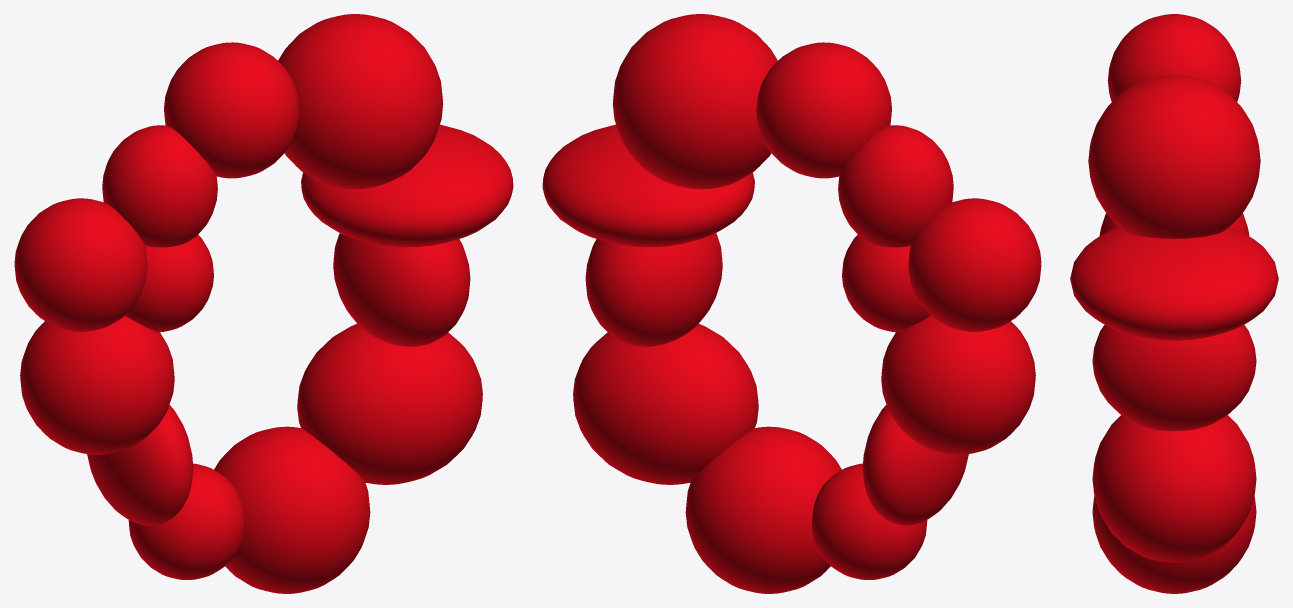
File: EXPO2025.glb
3 views of the same model, side by side, from view 1: azimuth 30°, elevation 25°; view 2: azimuth 150°, elevation 25°; view 3: azimuth 270°, elevation 25° (orthographic). The views are drawn at different scales.
Visible parts, largest first — view 1: 球.002, 球.011, 球.010, 球.007, 球.001, 球.006, 球, 球.012, 球.009, 球.008, 球.003, 球.005 (+1 smaller); view 2: 球.002, 球.011, 球.010, 球.007, 球.001, 球.006, 球, 球.012, 球.009, 球.008, 球.003, 球.005 (+1 smaller); view 3: 球.002, 球.011, 球.001, 球.012, 球, 球.010, 球.007.
Boxes of the visible parts, x1,y1,x2,y2 form: 球.002: (278, 14, 443, 189); 球.011: (297, 324, 482, 484); 球.010: (214, 426, 370, 593); 球.007: (20, 316, 174, 454); 球.001: (301, 124, 513, 247); 球.006: (14, 198, 147, 331); 球: (164, 42, 299, 178); 球.012: (333, 233, 470, 346); 球.009: (128, 463, 243, 579); 球.008: (87, 405, 193, 525); 球.003: (102, 131, 194, 247); 球.005: (125, 235, 213, 332); 球.002: (612, 14, 777, 189); 球.011: (573, 324, 758, 484); 球.010: (685, 426, 841, 593); 球.007: (881, 316, 1035, 454); 球.001: (542, 124, 754, 247); 球.006: (908, 198, 1041, 331); 球: (756, 42, 891, 178); 球.012: (585, 233, 722, 346); 球.009: (812, 463, 927, 579); 球.008: (862, 405, 968, 525); 球.003: (861, 131, 953, 247); 球.005: (842, 235, 930, 332); 球.002: (1088, 74, 1260, 238); 球.011: (1092, 415, 1256, 562); 球.001: (1070, 227, 1278, 340); 球.012: (1092, 324, 1256, 430); 球: (1107, 14, 1241, 101); 球.010: (1092, 496, 1256, 593); 球.007: (1099, 213, 1249, 235).
Bounding box in the file's own units: 1.01 × 1.11 × 0.3903.
